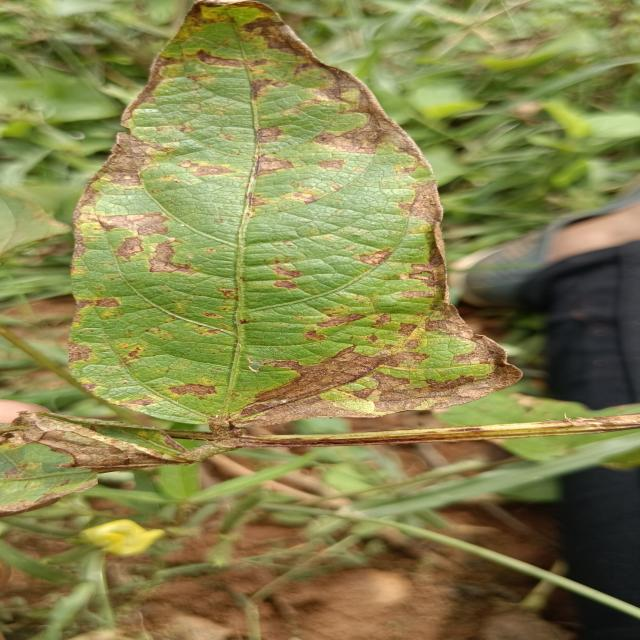Black gram_leaf spot: (56, 0, 529, 433)
